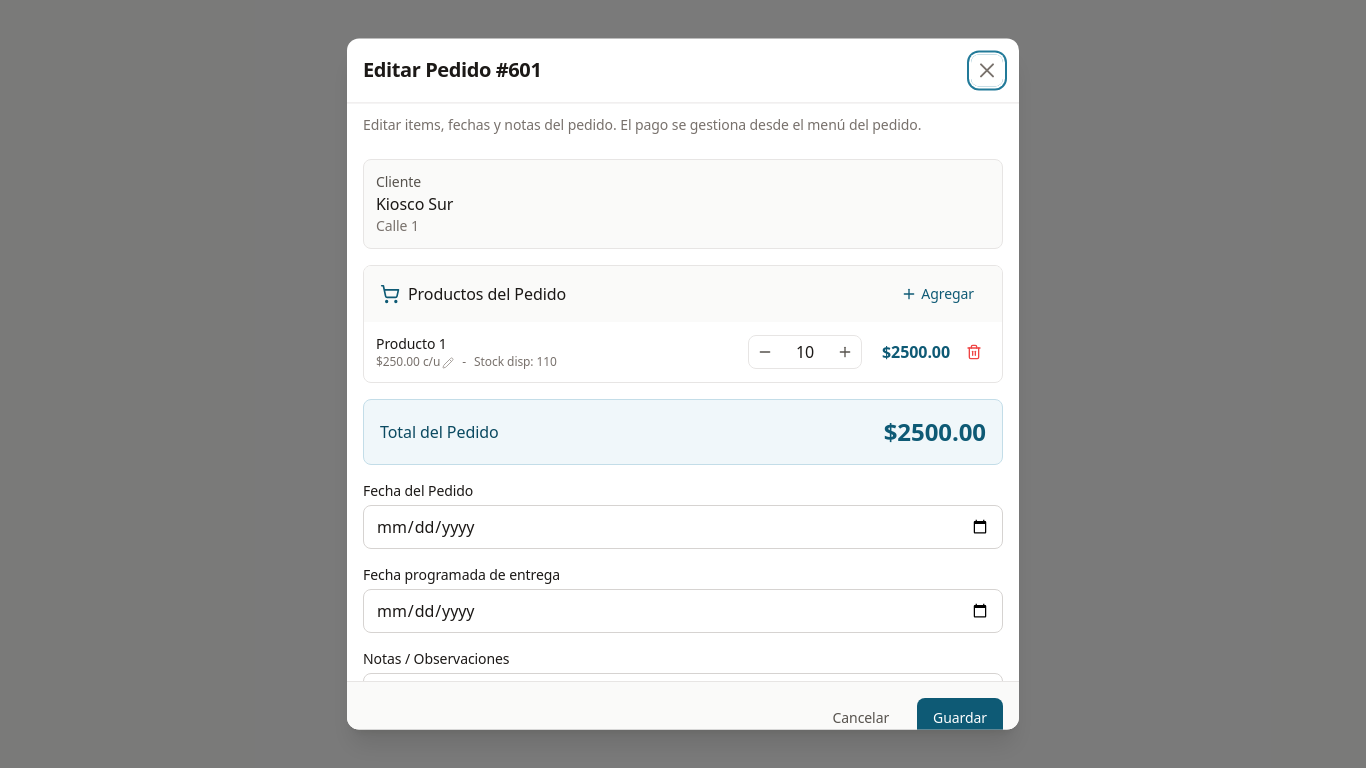
Test: ModalEditarPedido — guardado › un pedido sin tocar no muestra "Anterior"; tocado, muestra el total guardado (el viejo)
The width and height of the screenshot is (1366, 768).
expect the text "Producto 1" is shown: met, box x1=376 y1=334 x2=447 y2=354
expect the text "Anterior:" is not shown: met
Click the 3rd button at [765, 352], box x1=749 y1=336 x2=781 y2=368
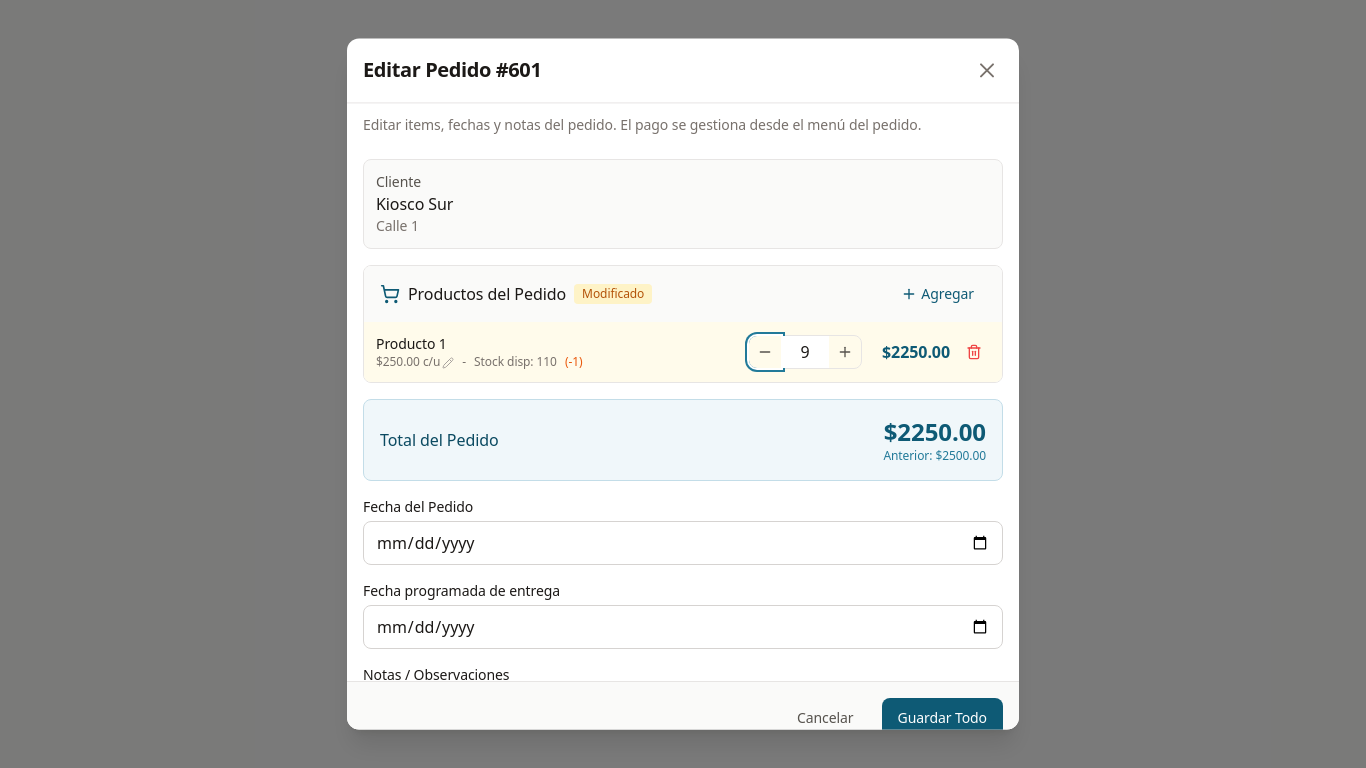
expect the text "Anterior: $2500.00" is shown: met, box x1=883 y1=448 x2=986 y2=464
